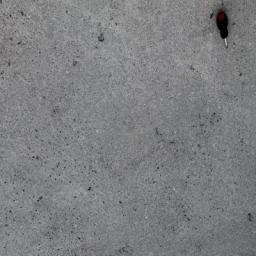FOD: (214, 5, 237, 55)
